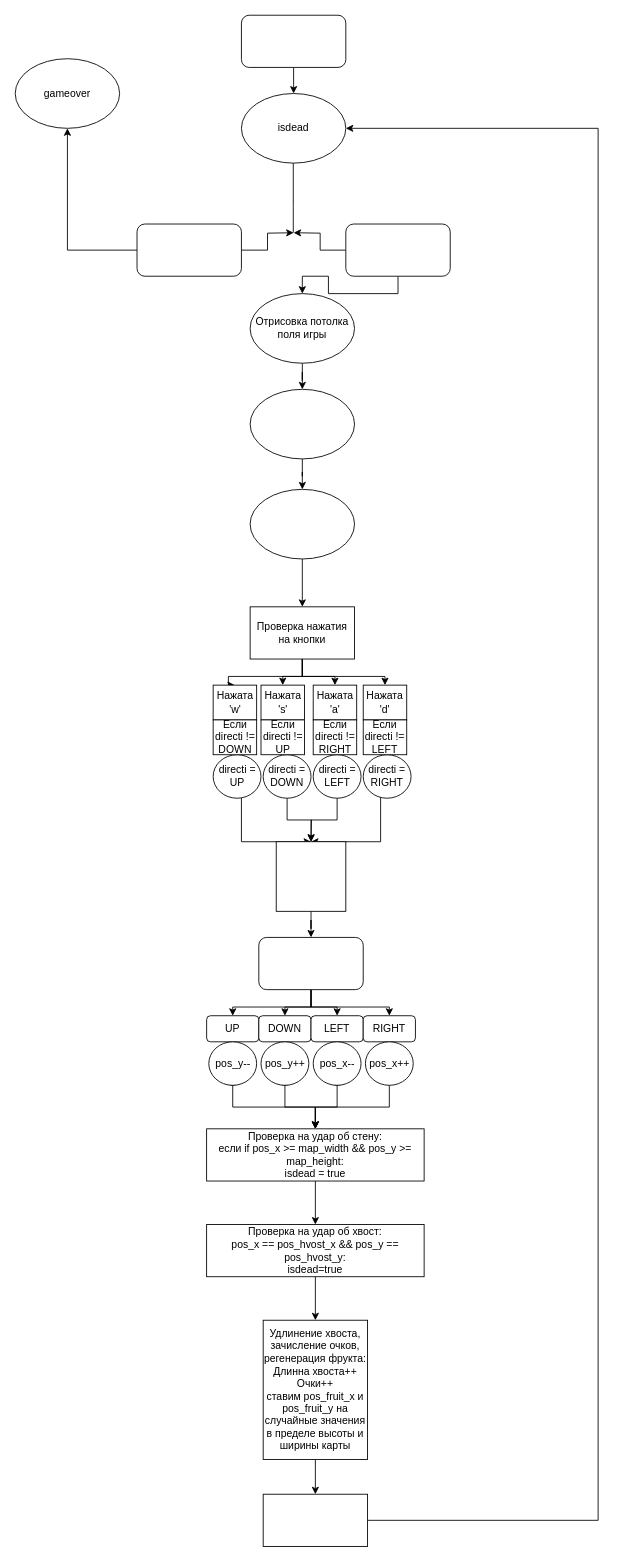
The diagram is 620 pixels wide and 1562 high, and some of its shapes have lost their labels. The centre of each missing label's shape, as x and y in pixels:
"false" goes at (x=397, y=249).
"start() (Инициализация начальных значений)" goes at (x=293, y=40).
"true" goes at (x=188, y=249).
"Ожидание 100 мс" goes at (x=315, y=1519).
"Отрисовка Пола, сразу снизу идет счет игрока" goes at (x=302, y=524).
"Отрисовка стен, фрукта, змеи, пустого места на карте" goes at (x=302, y=423).
"Проверка Направления (значения directi)" goes at (x=310, y=963).
"Сохранение позиций символов змейки" goes at (x=310, y=876).
